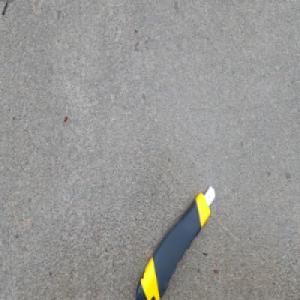Cutter: (134, 183, 216, 300)
